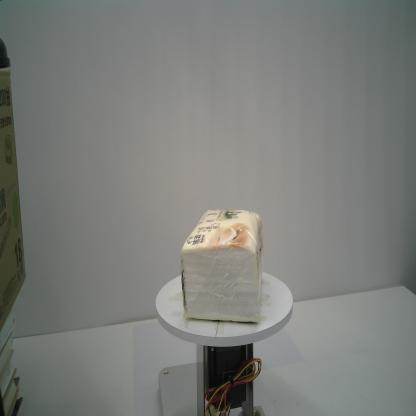Tissue: (178, 204, 266, 328)
